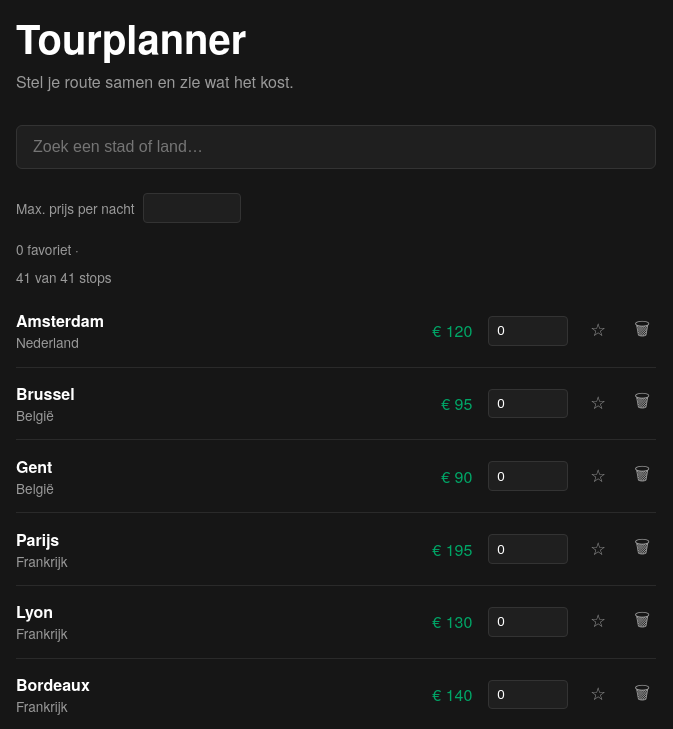
Test: Tourplanner › werkt het totaal direct bij na een wijziging
The width and height of the screenshot is (673, 729).
Replace the text in the number field named "Aantal nachten in Amsterdam" with "2": [528, 331] box [488, 316, 568, 346]
(page scrolled)
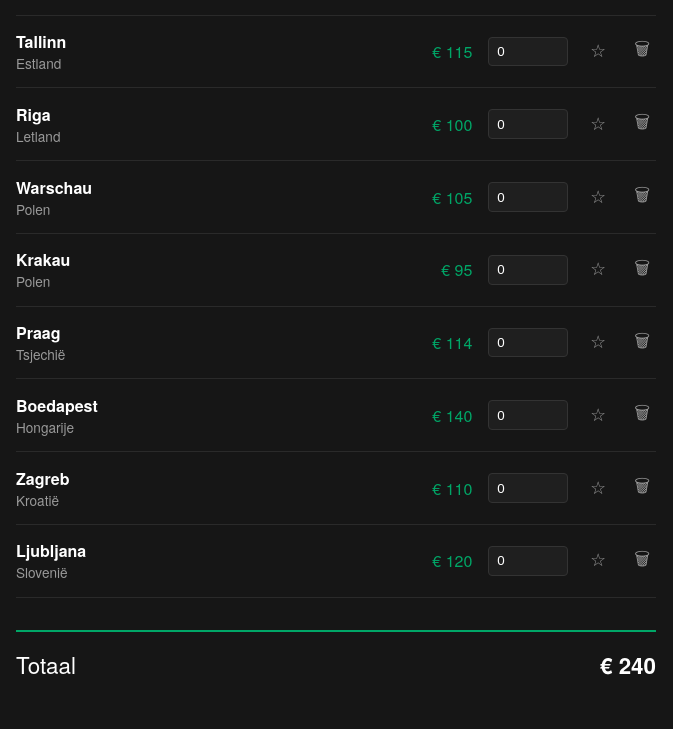
Result: the text "€ 240" is shown at [600, 649, 656, 681]
